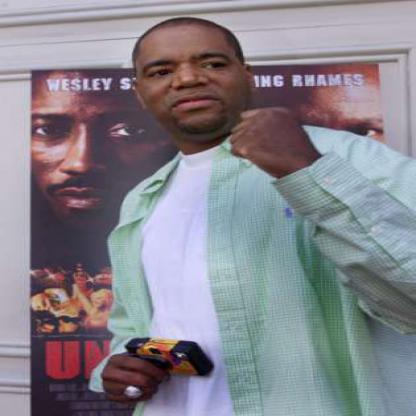face: (17, 35, 190, 236), (134, 18, 248, 135)
